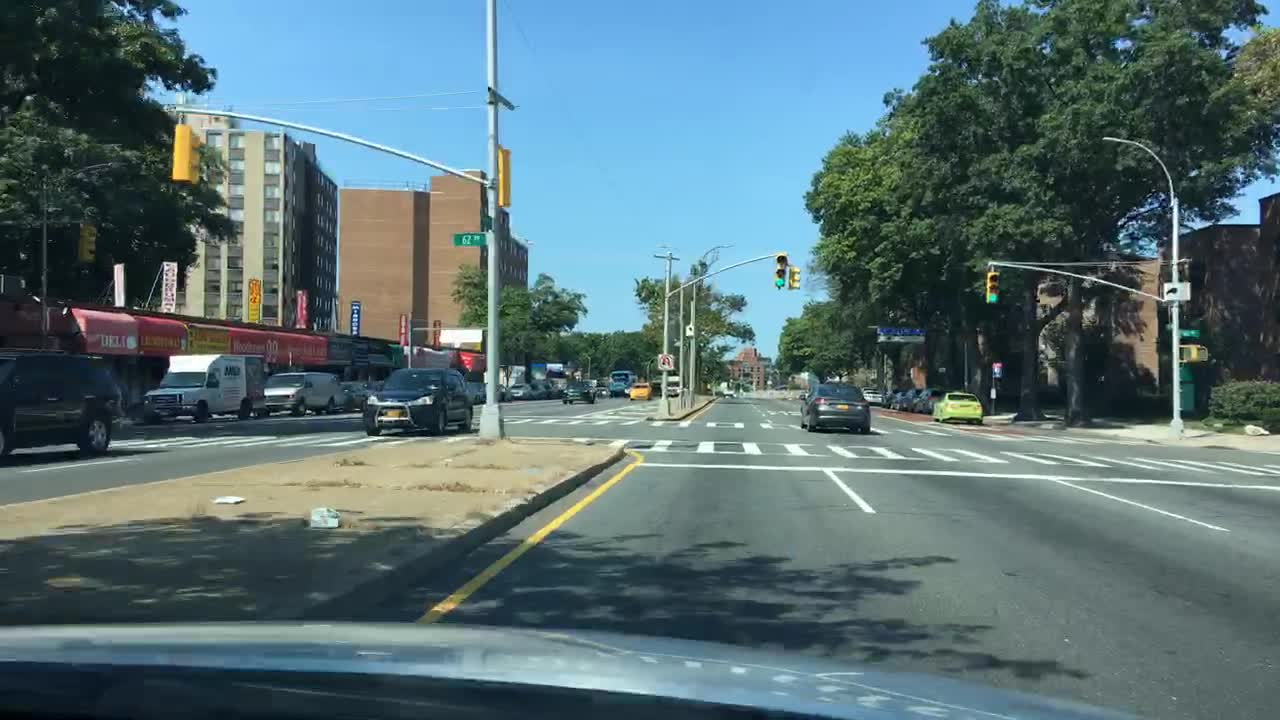car: (0, 343, 119, 456), (359, 364, 475, 434), (798, 376, 873, 433), (261, 371, 342, 415), (931, 391, 984, 424), (912, 386, 949, 415), (339, 382, 374, 411), (560, 378, 599, 404), (607, 370, 636, 397), (893, 387, 923, 411), (626, 380, 652, 402), (658, 375, 682, 398), (718, 375, 740, 399), (549, 379, 573, 398), (527, 380, 551, 398), (508, 382, 533, 399), (467, 382, 486, 403), (881, 387, 900, 407), (494, 382, 512, 402), (862, 390, 883, 405), (621, 380, 636, 397), (595, 383, 611, 398), (771, 382, 790, 391), (860, 385, 877, 394)
traffic light: (173, 122, 201, 185), (495, 145, 511, 207), (79, 223, 98, 261), (1174, 343, 1208, 362), (775, 254, 790, 288), (985, 270, 1001, 301), (788, 266, 803, 289)
traffic sign: (452, 231, 487, 247), (1162, 281, 1191, 300), (876, 325, 926, 336), (876, 333, 927, 343), (655, 352, 674, 371), (1178, 327, 1201, 336), (991, 362, 1003, 377), (684, 321, 694, 337)
truck: (142, 351, 265, 424)
